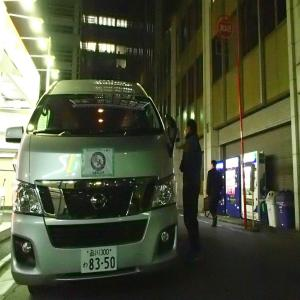Vehicle-registration-plate: (82, 247, 118, 275)
